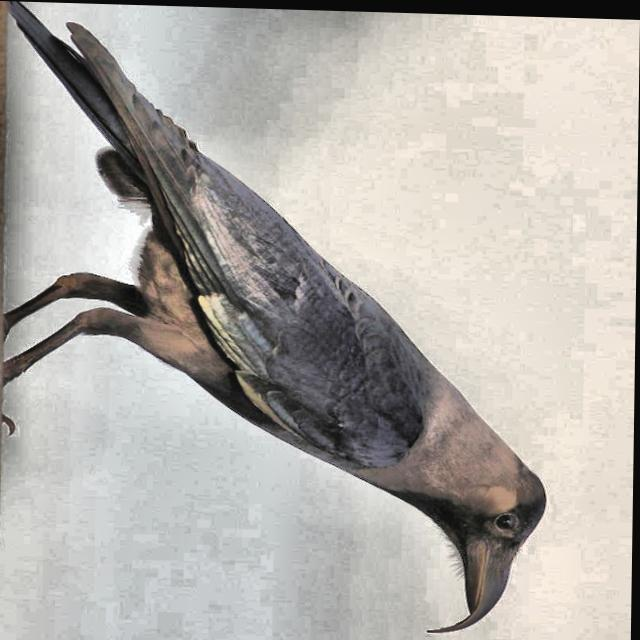crow: (0, 2, 581, 640)
